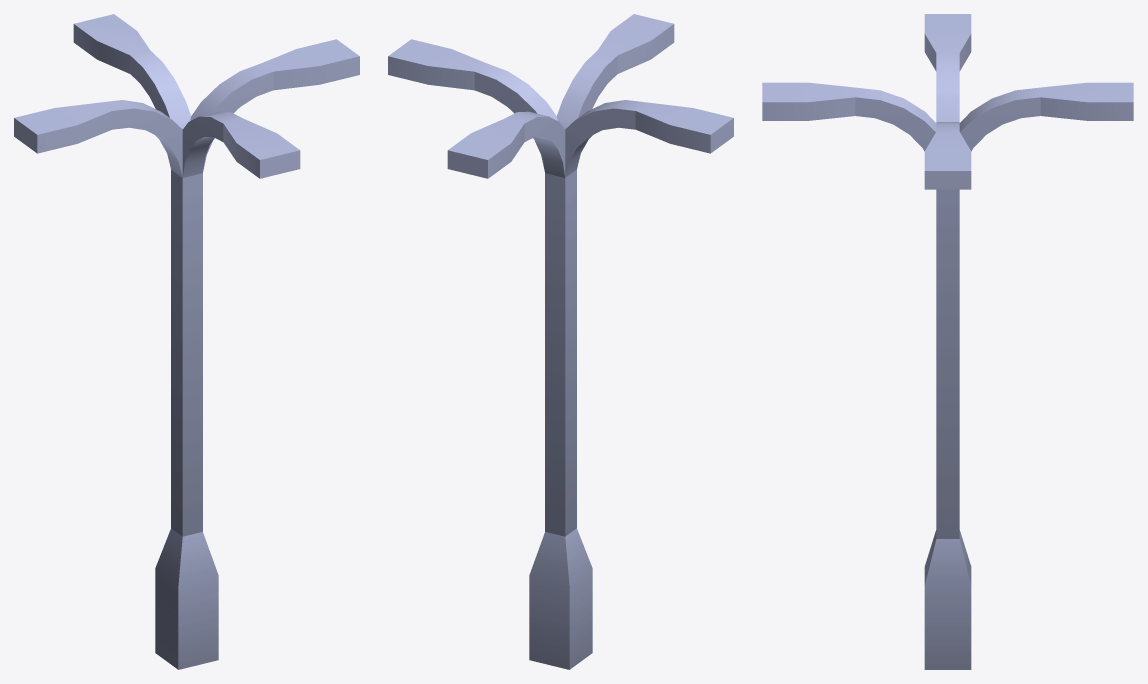
Rendered from light-curved-cross.glb.
3 views of the same model, side by side, from view 1: azimuth 30°, elevation 25°; view 2: azimuth 150°, elevation 25°; view 3: azimuth 270°, elevation 25° (orthographic).
Visible parts, largest first — view 1: light-curved-cross; view 2: light-curved-cross; view 3: light-curved-cross.
Part boxes in pixels (<box>): light-curved-cross: <box>14,14,359,669</box>; light-curved-cross: <box>388,14,733,669</box>; light-curved-cross: <box>762,14,1133,669</box>.
Size of the model in its own units: 0.4 by 0.675 by 0.4.
1 material, 1 textured.
